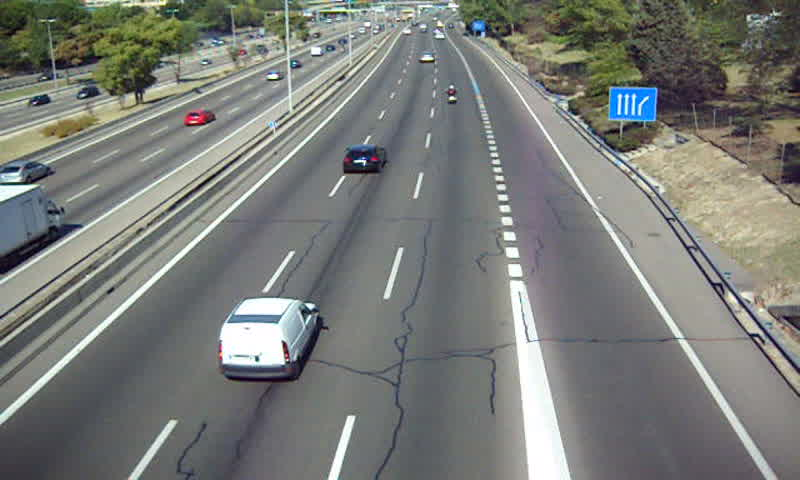car: (340, 145, 386, 174), (418, 53, 435, 65)
motorcycle: (444, 85, 460, 106)
van: (219, 296, 326, 382)
